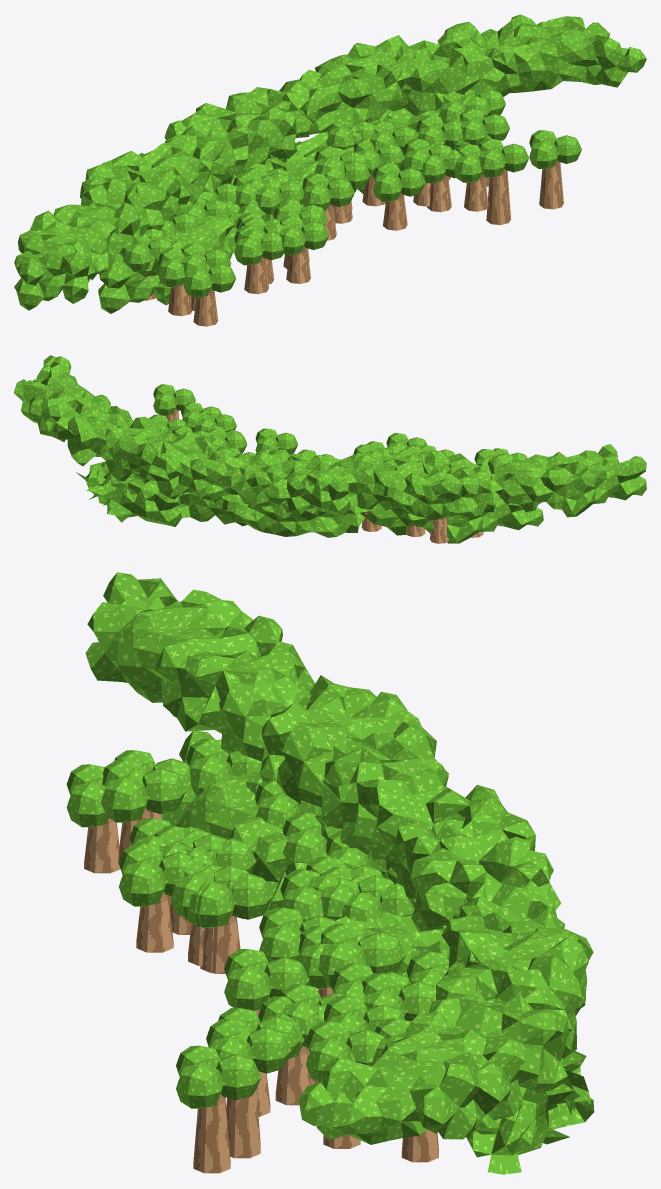
The model's file is Foret.glb.
3 views of the same model, one above another, from view 1: azimuth 30°, elevation 25°; view 2: azimuth 150°, elevation 25°; view 3: azimuth 270°, elevation 25° (orthographic). The views are drawn at different scales.
Visible parts, largest first — view 1: Foret; view 2: Foret; view 3: Foret.
Boxes of the visible parts, bbox=[...] form: Foret: bbox=[14, 14, 646, 326]; Foret: bbox=[14, 355, 646, 543]; Foret: bbox=[66, 572, 594, 1174].
Size of the model in its own units: 107 by 18.94 by 44.42.
Materials: 2 (2 with a texture image).
